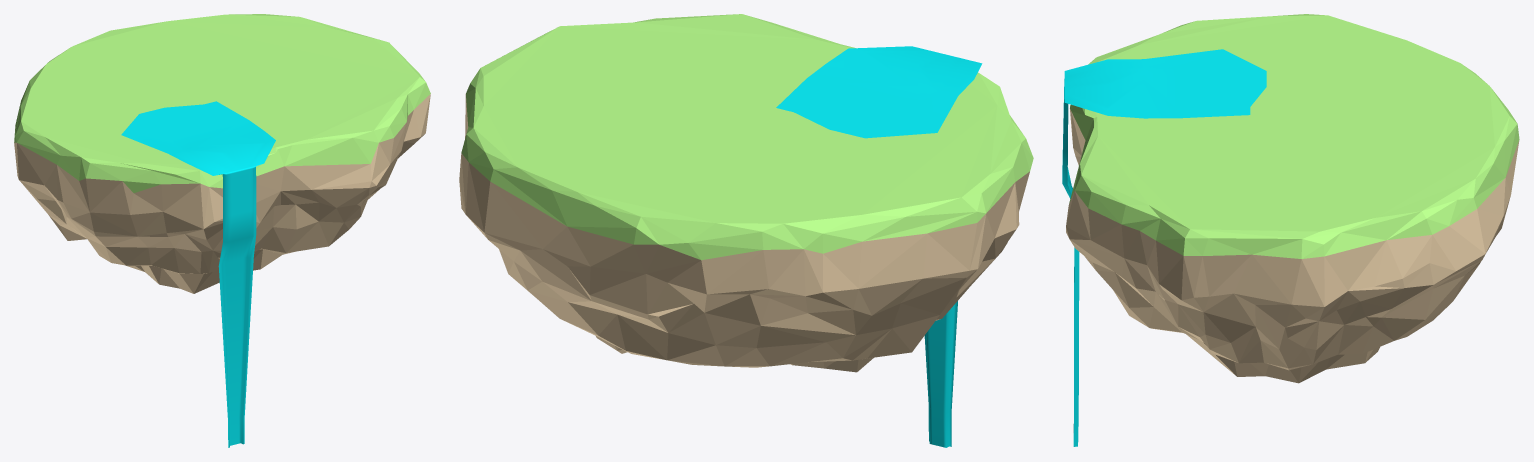
The model's file is floatingislandwater.fbx.
3 renders of one model, left to right at view 1: azimuth 30°, elevation 25°; view 2: azimuth 150°, elevation 25°; view 3: azimuth 270°, elevation 25°, orthographic. The views are drawn at different scales.
Visible parts, largest first — view 1: polySurface1, pPlane1; view 2: polySurface1, pPlane1; view 3: polySurface1, pPlane1.
Part boxes in pixels (x1,y1,x2,y2): polySurface1: (14, 14, 430, 293); pPlane1: (121, 101, 275, 447); polySurface1: (459, 14, 1033, 372); pPlane1: (776, 46, 982, 447); polySurface1: (1066, 14, 1519, 383); pPlane1: (1062, 49, 1266, 446).
Size of the model in its own units: 21.23 by 15.3 by 17.62.
